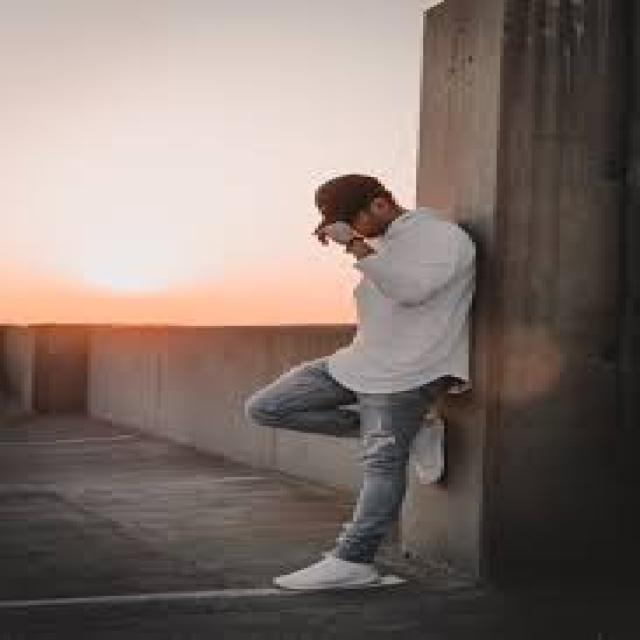adult: (210, 140, 493, 612)
